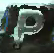Parking: (8, 2, 46, 51)
